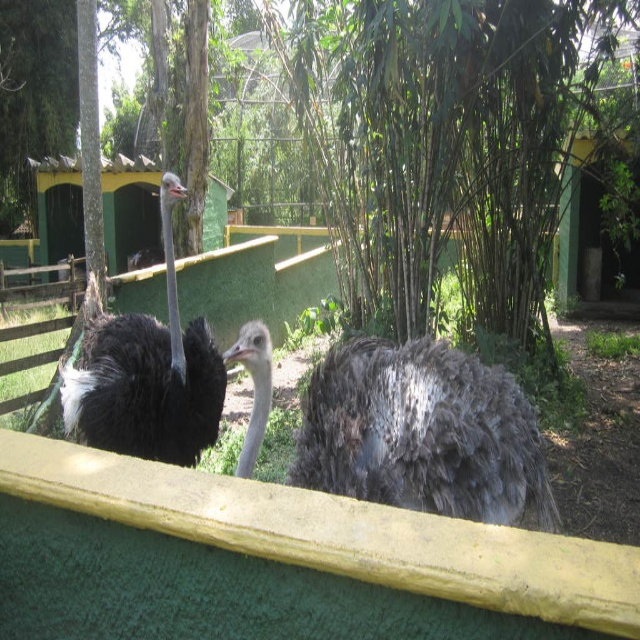Ostrich: (221, 310, 564, 535), (56, 169, 232, 474)
